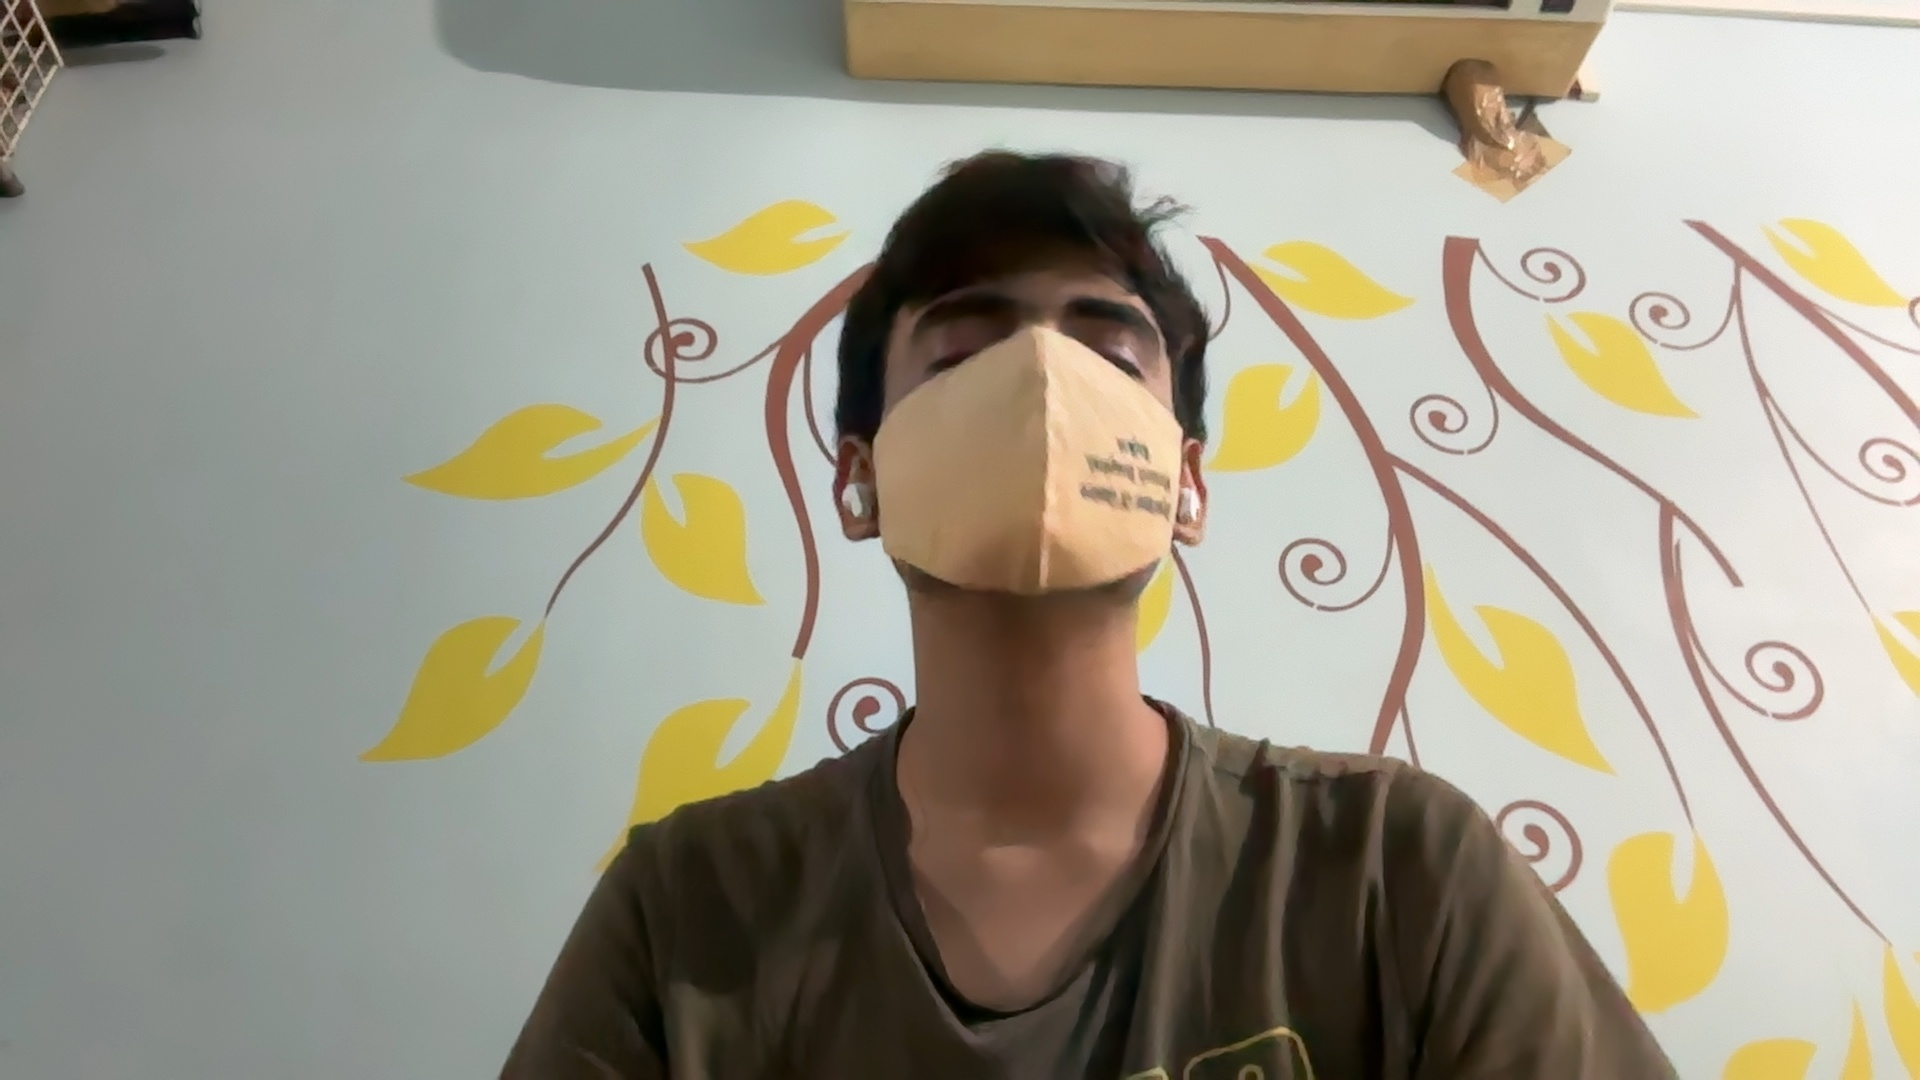Mask: (865, 341, 1195, 609)
